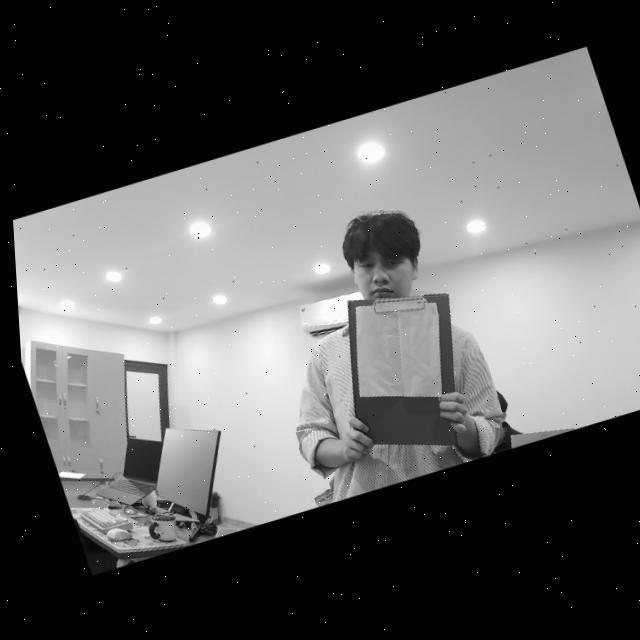face: (342, 203, 440, 308)
